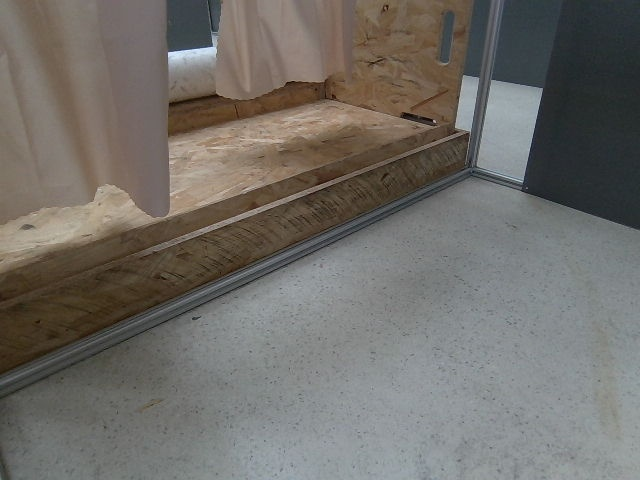curtain: (160, 0, 384, 216)
